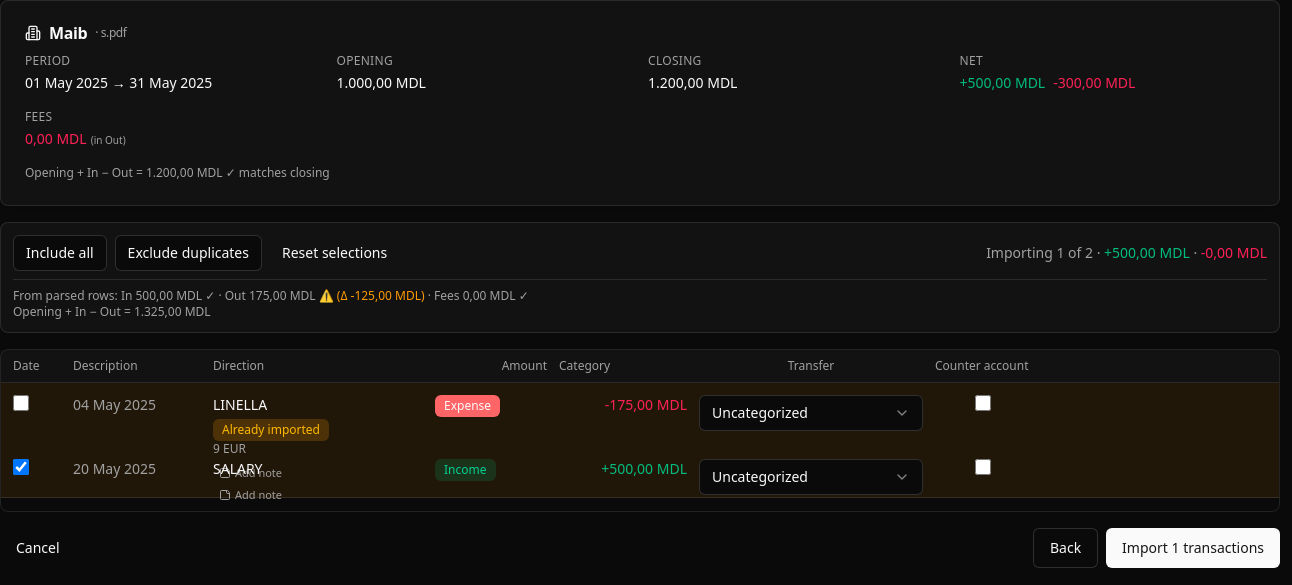
Test case: ImportPreview — bulk actions + commit edges › disables the commit button when no rows are selected
Expected: the element with test id "import-counter" is shown, top-left (986, 243), bottom-right (1267, 263)
Click the checkbox with test id "import-row-checkbox-1". click: (21, 467)
box: top-left (13, 459), bottom-right (29, 475)
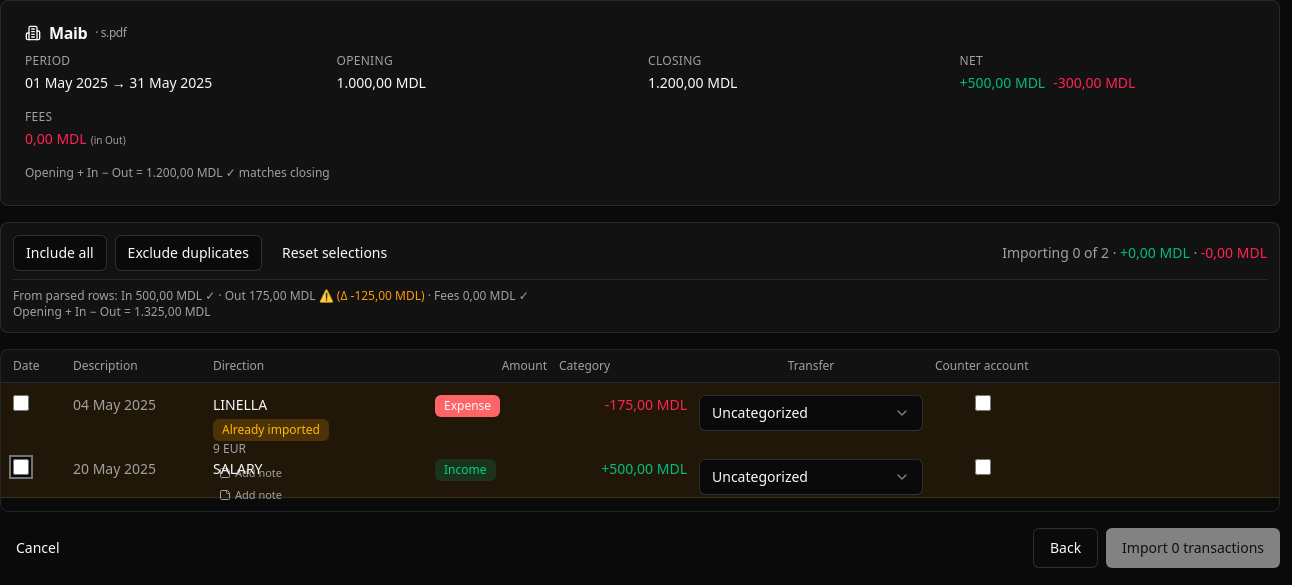
Result: the button with test id "import-commit-button" is disabled at top-left (1106, 528), bottom-right (1280, 568)
